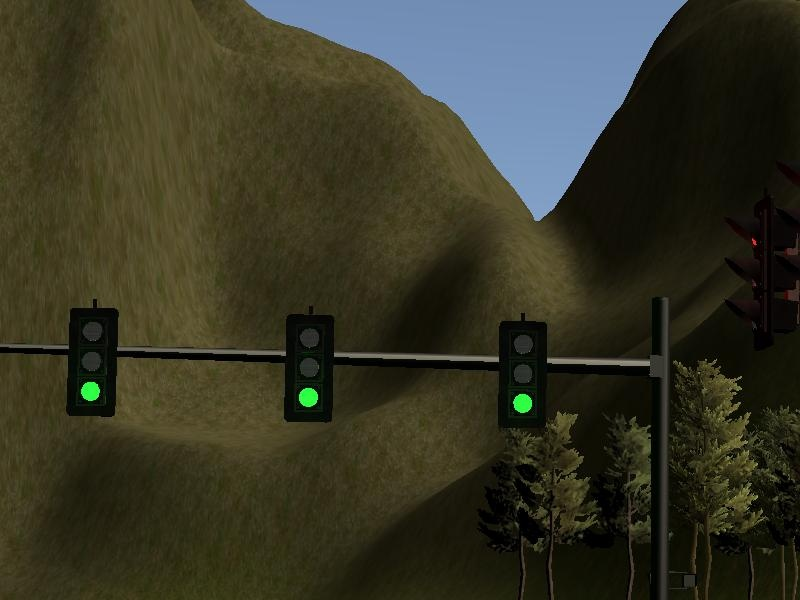GREEN: (67, 308, 118, 417), (286, 317, 334, 422), (499, 323, 546, 428)
